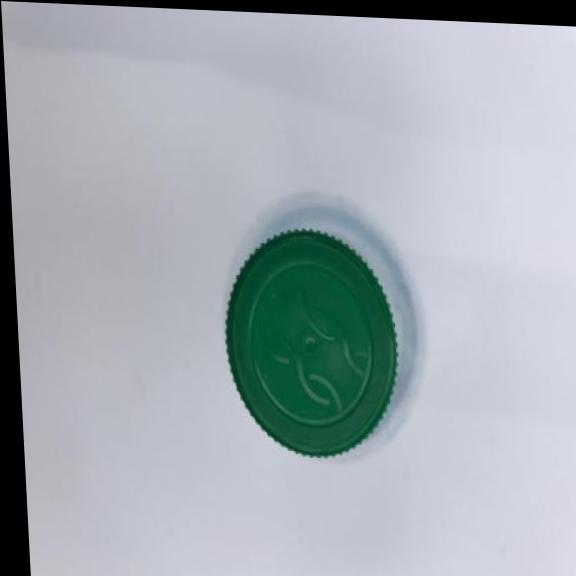Plastik: (212, 203, 430, 476)
